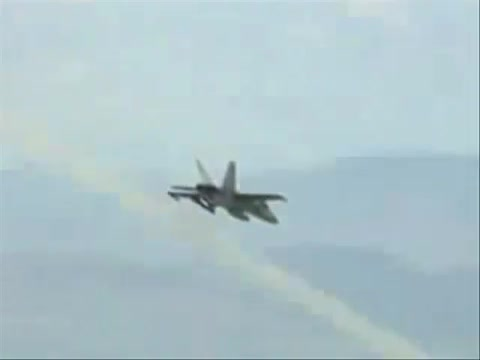aeroplane: (167, 154, 290, 227)
